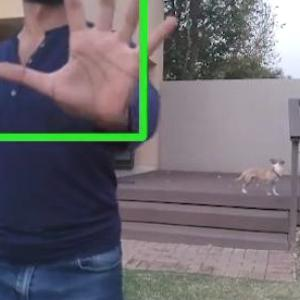follow_hand: (1, 0, 183, 129)
